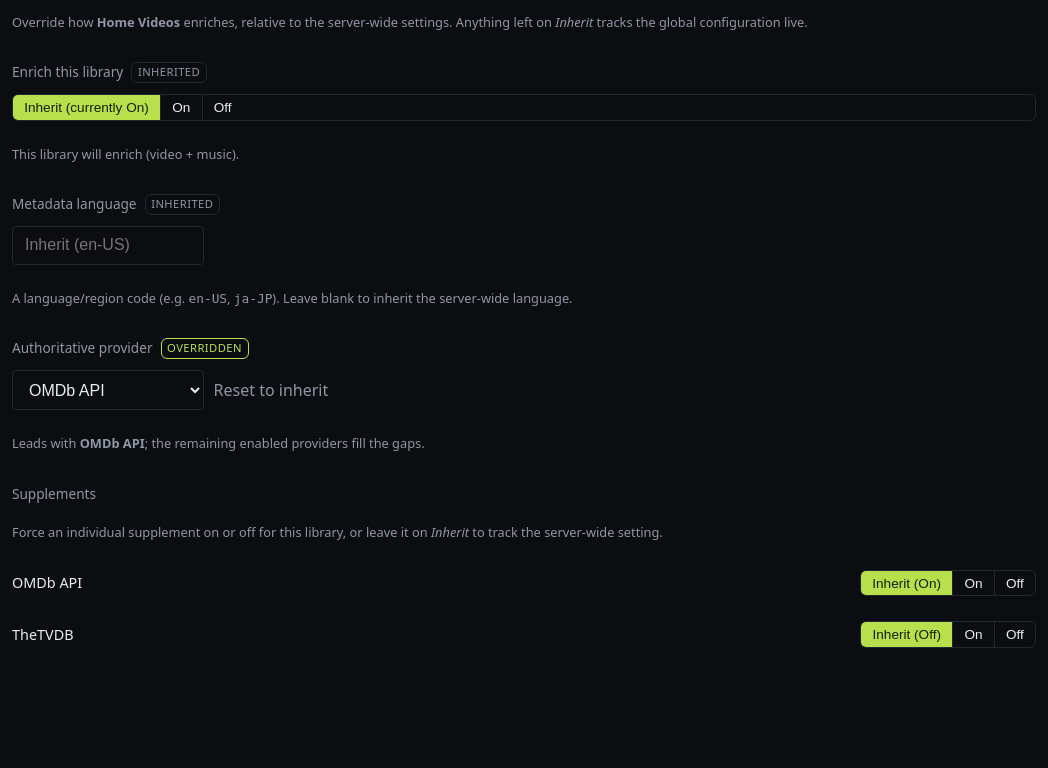
Test: EnrichmentPolicyPanel › resetting the authoritative clears it (authoritativeProvider=null)
Expected: the element with test id "authoritative-control" shows "Overridden", [167, 340, 242, 355]
Click the button with test id "authoritative-reset" at (271, 390), box [214, 378, 328, 402]
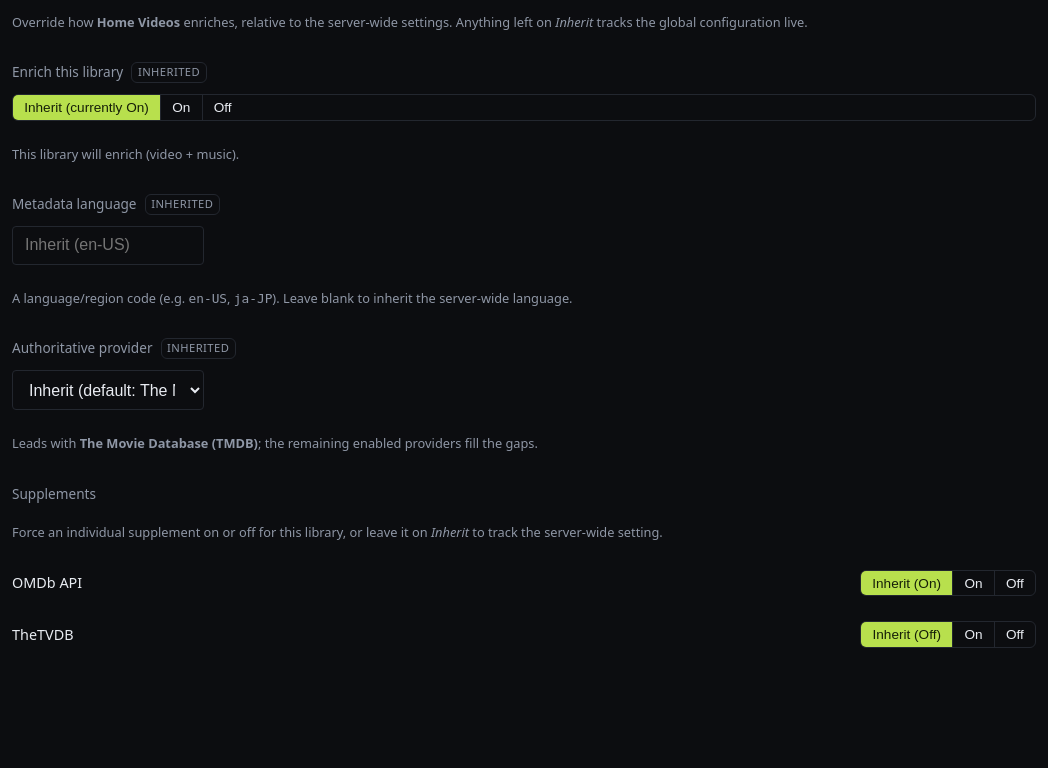
Expected: the element with test id "authoritative-control" shows "Inherited", [167, 340, 229, 355]
